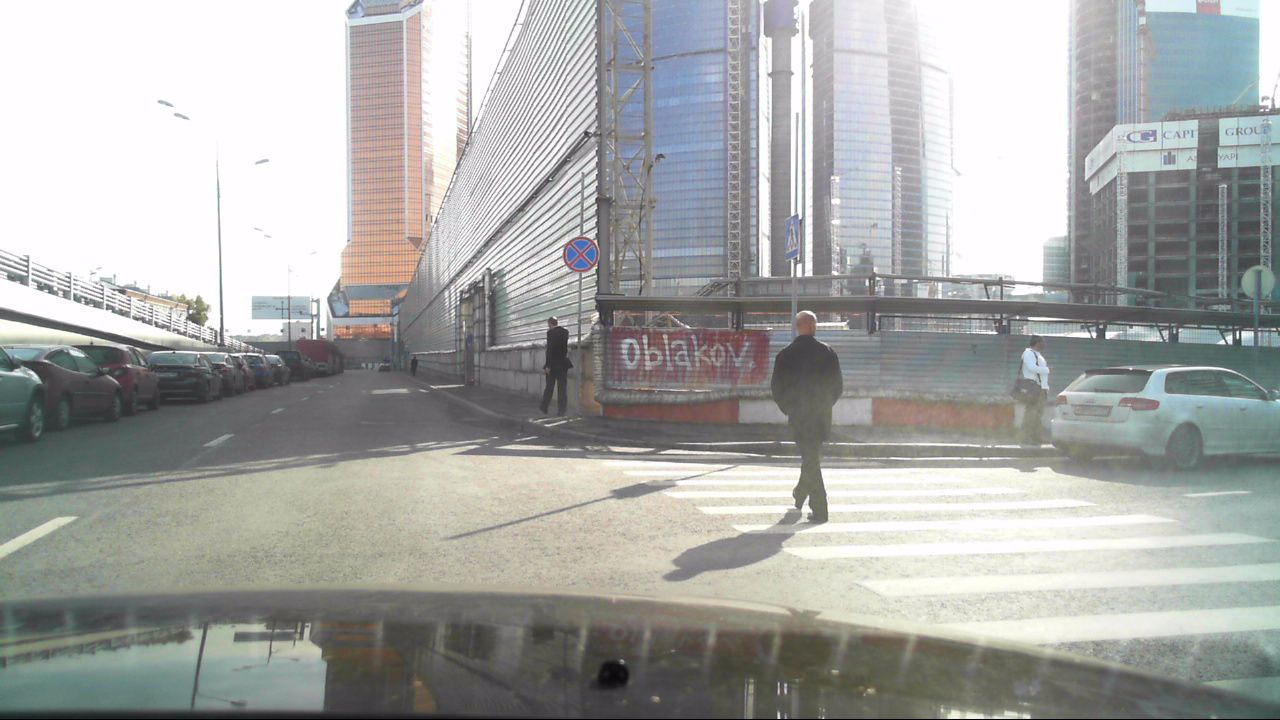No Parking: (562, 234, 602, 274)
